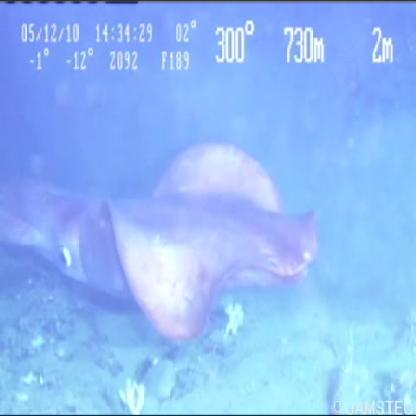Bio: (1, 130, 326, 346)
